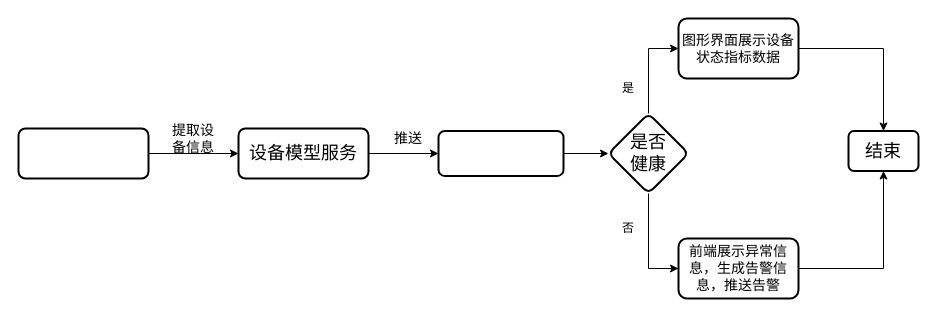
This 936x316 diagram has some shape labels left out. Each missing label, with the centre of its shape:
"IOT平台" belongs at pixel 83 153.
"业务微服务" belongs at pixel 500 153.
